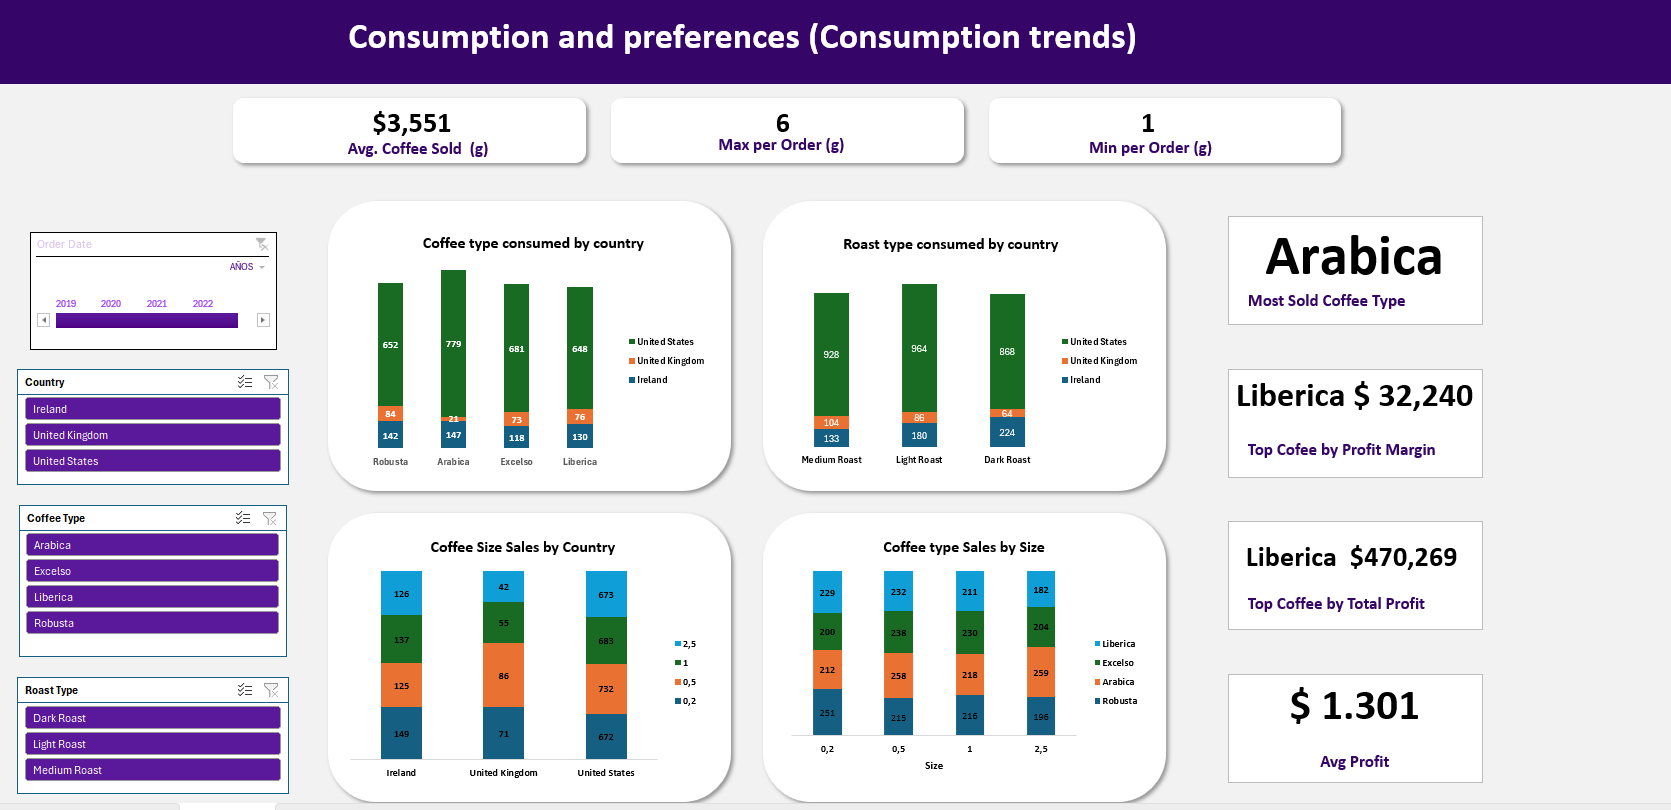

The dashboard page shown, as its layout file describes it:
{"tool":"powerbi","page":{"name":"Página 2","canvas":[1280,720],"ordinal":1},"visuals":[{"type":"shape","box":[10,0,1270,72.8],"z":0},{"type":"card","fields":{"Values":["Data_orders.Max Unit Cofee Sold"]},"box":[584.8,81.3,180,80],"z":1000},{"type":"textbox","box":[256.7,0,836.3,73.2],"z":2000},{"type":"card","fields":{"Values":["Data_orders.Min Unit sold"]},"box":[816.6,81.3,180,80.1],"z":3000},{"type":"group","id":"g1","title":"Grupo 1","box":[353.1,81.3,180,80.1],"z":4000},{"type":"columnChart","title":"Coffee type consumed by country","fields":{"Category":["Data_products 33.Coffee type"],"Y":["Sum(Data_orders.Quantity)"],"Series":["Data_customers 33.Country"]},"box":[270.6,184.7,400,230],"z":5000},{"type":"columnChart","title":"Roast type consumed by country","fields":{"Y":["Sum(Data_orders.Quantity)"],"Series":["Data_customers 33.Country"],"Category":["Data_products 33.Roast Type"]},"box":[706.2,184.7,400,230],"z":6000},{"type":"columnChart","title":"Coffee siza sales by country ","fields":{"Y":["Sum(Data_orders.Quantity)"],"Series":["Data_customers 33.Country"],"Category":["Data_products 33.Size"]},"box":[270.6,447.2,400,230],"z":7000},{"type":"columnChart","title":"Coffee type sales by size","fields":{"Y":["Sum(Data_orders.Quantity)"],"Series":["Data_products 33.Coffee type"],"Category":["Data_products 33.Size"]},"box":[706.2,447.2,400,230],"z":8000},{"type":"card","fields":{"Values":["Data_orders.AVG Cofee Sold"]},"box":[353.1,81.3,180,80],"z":9000,"group":"g1"},{"type":"slicer","fields":{"Values":["Calendario.Year"]},"box":[11.9,144.2,235.8,115],"z":9000},{"type":"slicer","fields":{"Values":["Combinar2.Country"]},"box":[11.9,285.8,235.8,102.2],"z":10000},{"type":"slicer","fields":{"Values":["Data_products 33.Coffee type"]},"box":[11.9,414.7,235.8,119.6],"z":11000},{"type":"slicer","fields":{"Values":["Combinar2.Roast Type"]},"box":[10.7,561,238.1,122],"z":12000}]}

Visuals, with their boxes on the page's 1280x720 design canvas (x1, y1, x2, y2). These are canvas units, not pixel positions in the 1671x810 screenshot, which may show the page scaled, cropped or inside an application window:
shape: 10/0/1280/73
card - Data_orders.Max Unit Cofee Sold: 585/81/765/161
textbox: 257/0/1093/73
card - Data_orders.Min Unit sold: 817/81/997/161
"Grupo 1" group: 353/81/533/161
"Coffee type consumed by country" columnChart: 271/185/671/415
"Roast type consumed by country" columnChart: 706/185/1106/415
"Coffee siza sales by country " columnChart: 271/447/671/677
"Coffee type sales by size" columnChart: 706/447/1106/677
card - Data_orders.AVG Cofee Sold: 353/81/533/161
slicer - Calendario.Year: 12/144/248/259
slicer - Combinar2.Country: 12/286/248/388
slicer - Data_products 33.Coffee type: 12/415/248/534
slicer - Combinar2.Roast Type: 11/561/249/683
